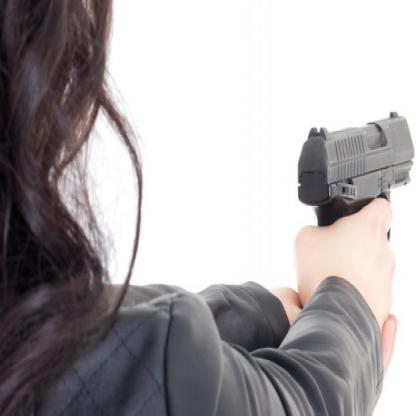gun: (284, 83, 415, 325)
